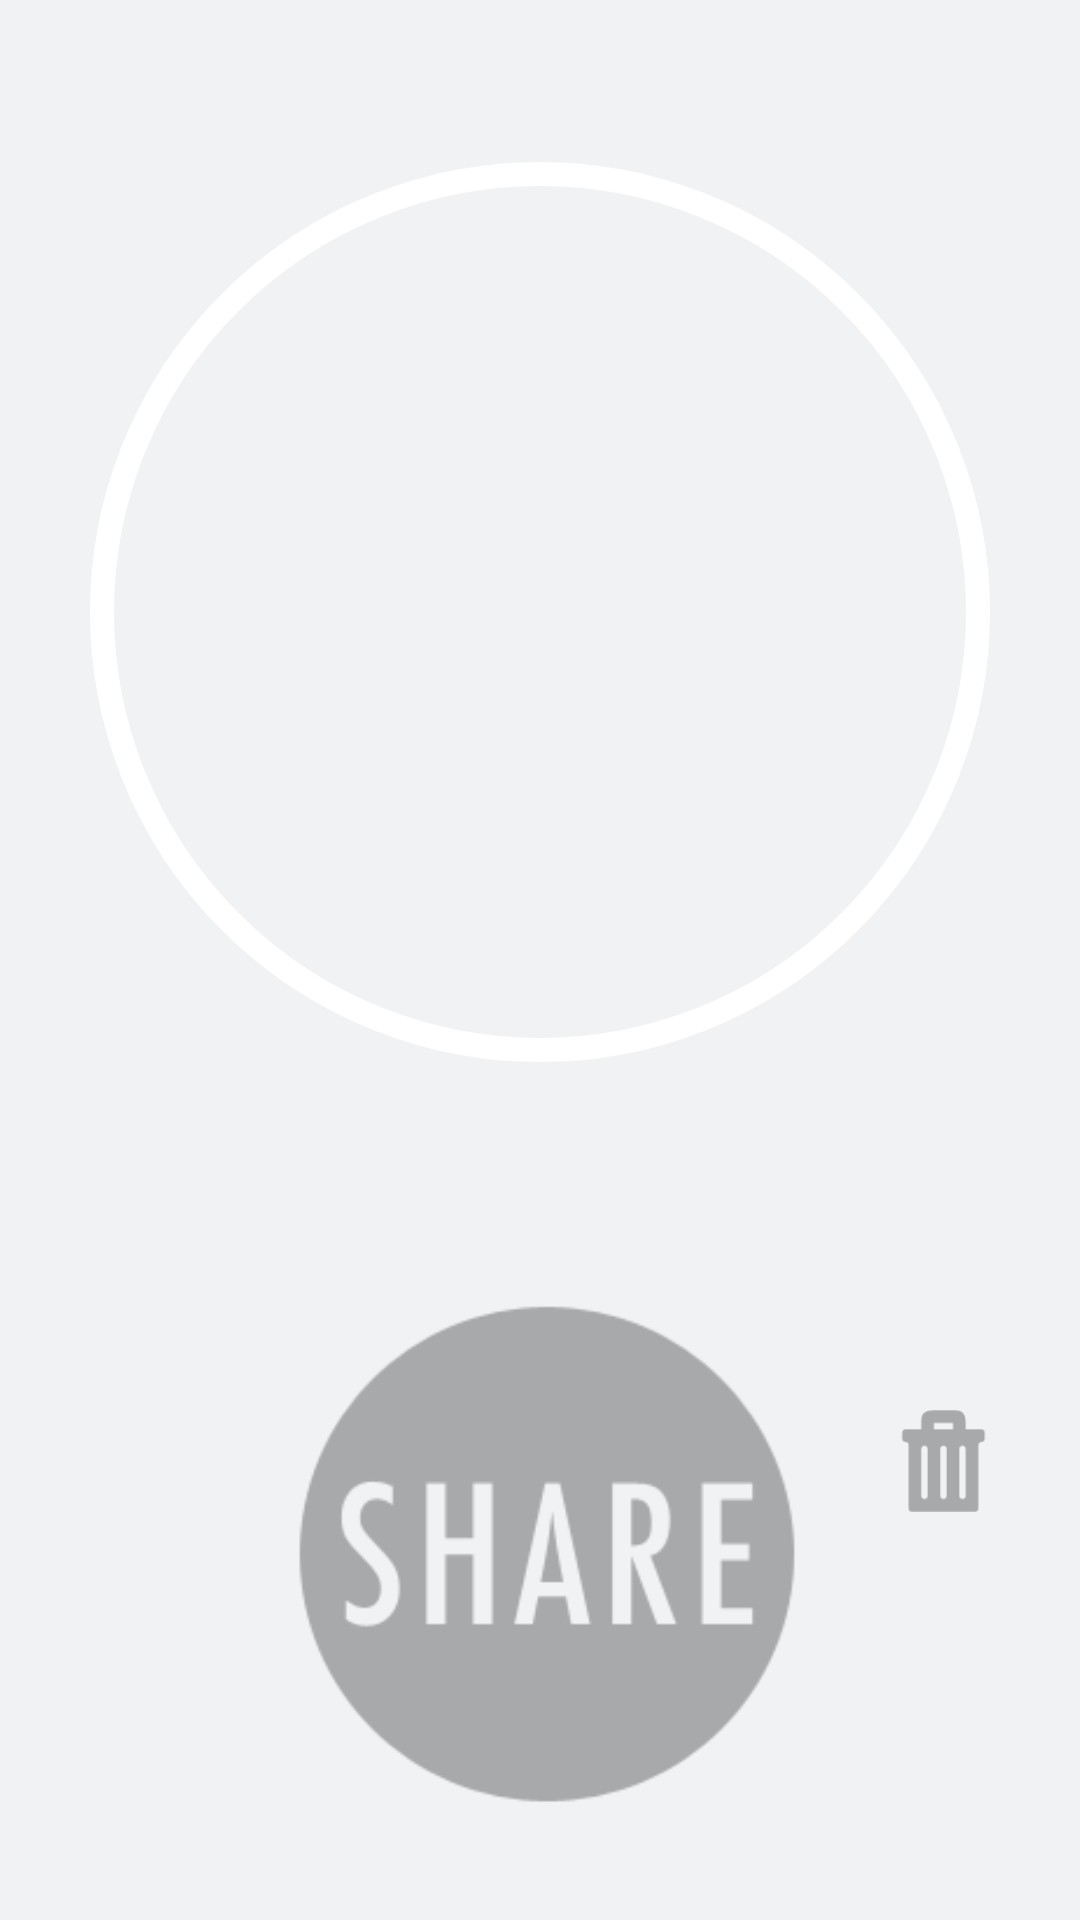

Named icons in this screenshot (1080px x 1920px) and their bounding boxes, (x1, y1, x2, y2):
delete: (902, 1410, 985, 1512)
